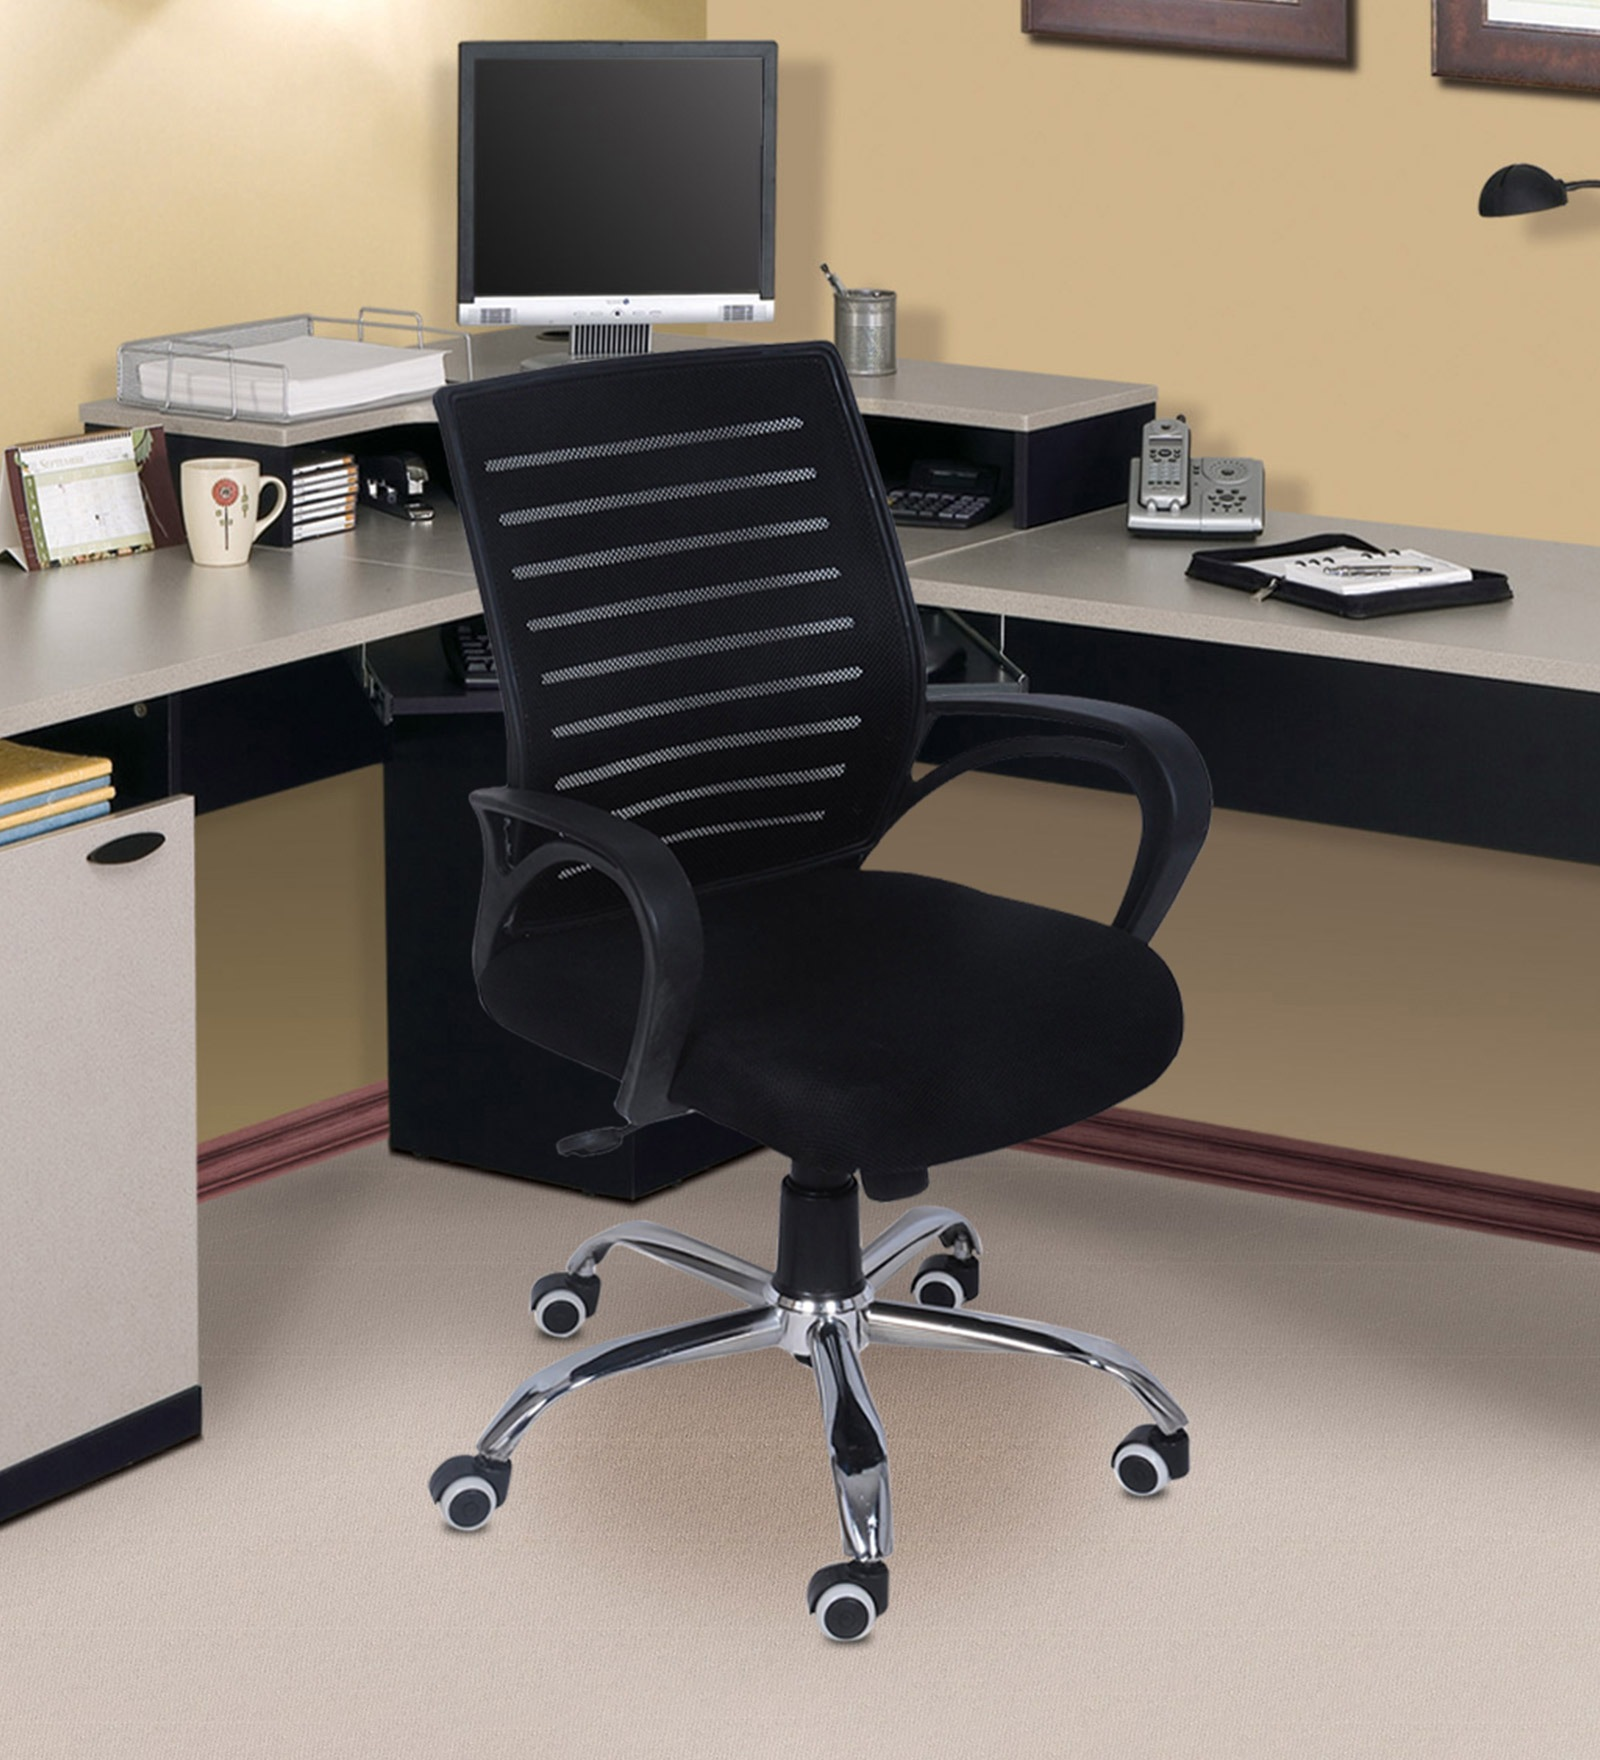Classical Medium Back Ergonomic Chair by Furniease: (368, 336, 1209, 1643)
